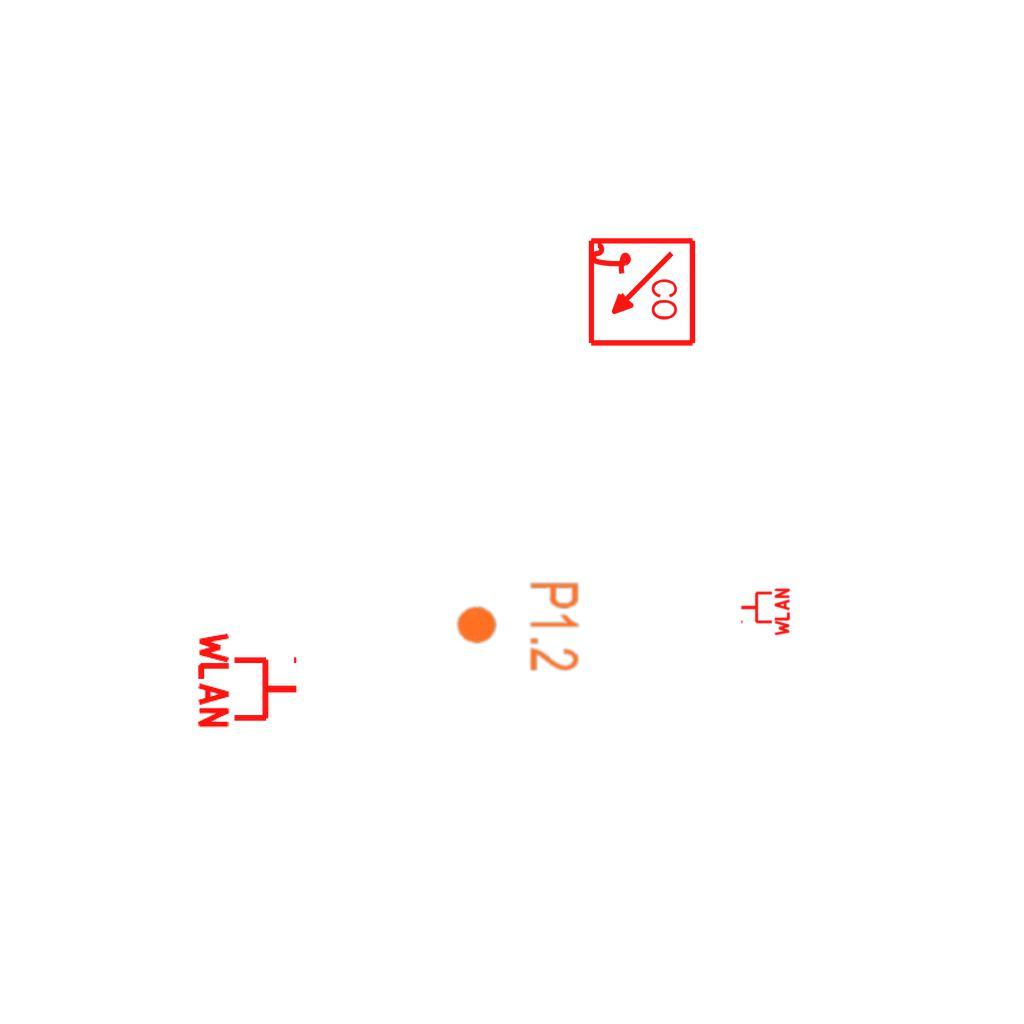Downlight_LED_Einbauleuchten_Flur: (454, 580, 582, 673)
ROA_Rauchmelder_optisch_mit_Signalgeber_(Sockelsirene): (584, 236, 697, 349)
WLAN: (196, 628, 301, 732), (739, 586, 791, 638)
